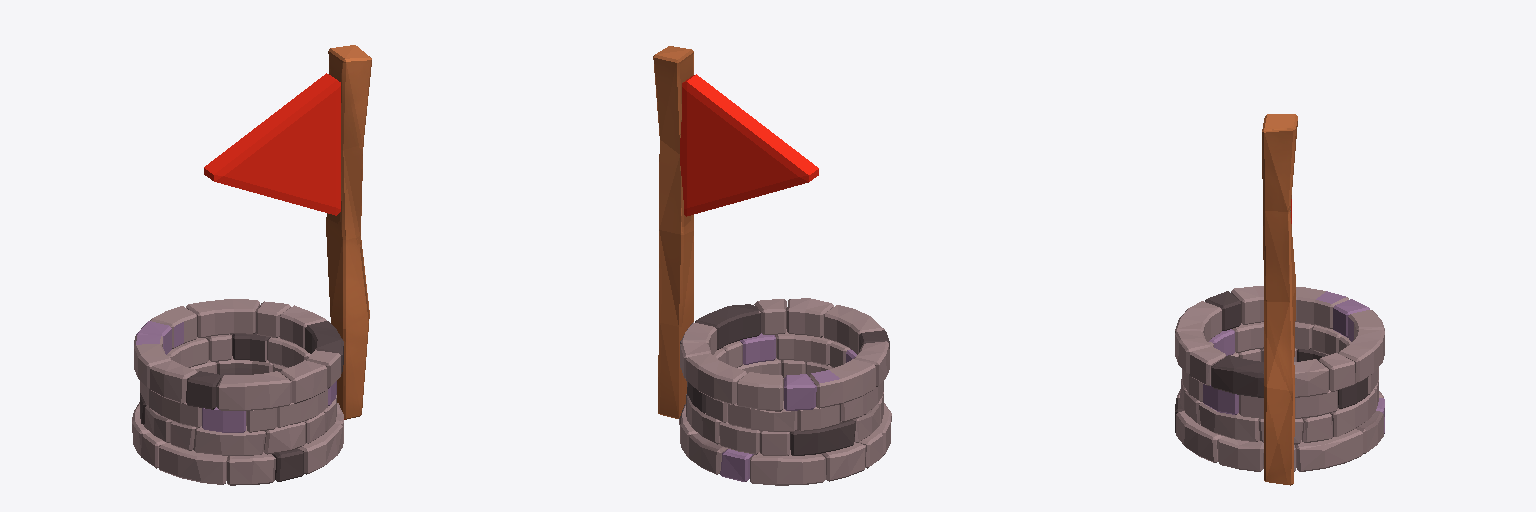
3 views of the same model, side by side, from view 1: azimuth 30°, elevation 25°; view 2: azimuth 150°, elevation 25°; view 3: azimuth 270°, elevation 25° (orthographic).
Parts seen in each view (by area): view 1: Cube.003; view 2: Cube.003; view 3: Cube.003.
Boxes of the visible parts, <box> form: Cube.003: <box>132,45,371,485</box>; Cube.003: <box>653,46,891,485</box>; Cube.003: <box>1175,114,1384,485</box>.
Size of the model in its own units: 4.36 by 6.98 by 3.66.
2 materials, 1 textured.